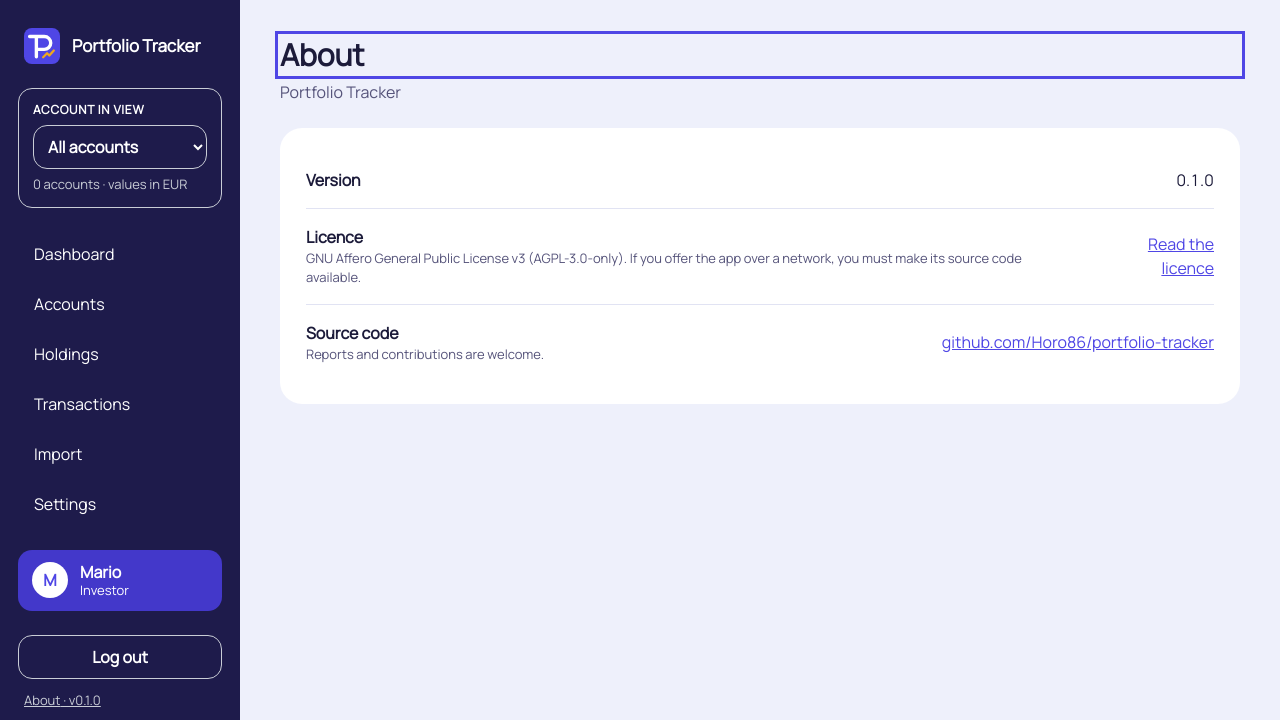
Test case: app shell › logs out with the CSRF header and returns to the login
expect the heading "About" is shown: met, box [280,34,364,75]
Click the button "Log out": [120, 657] box [18,635,222,679]
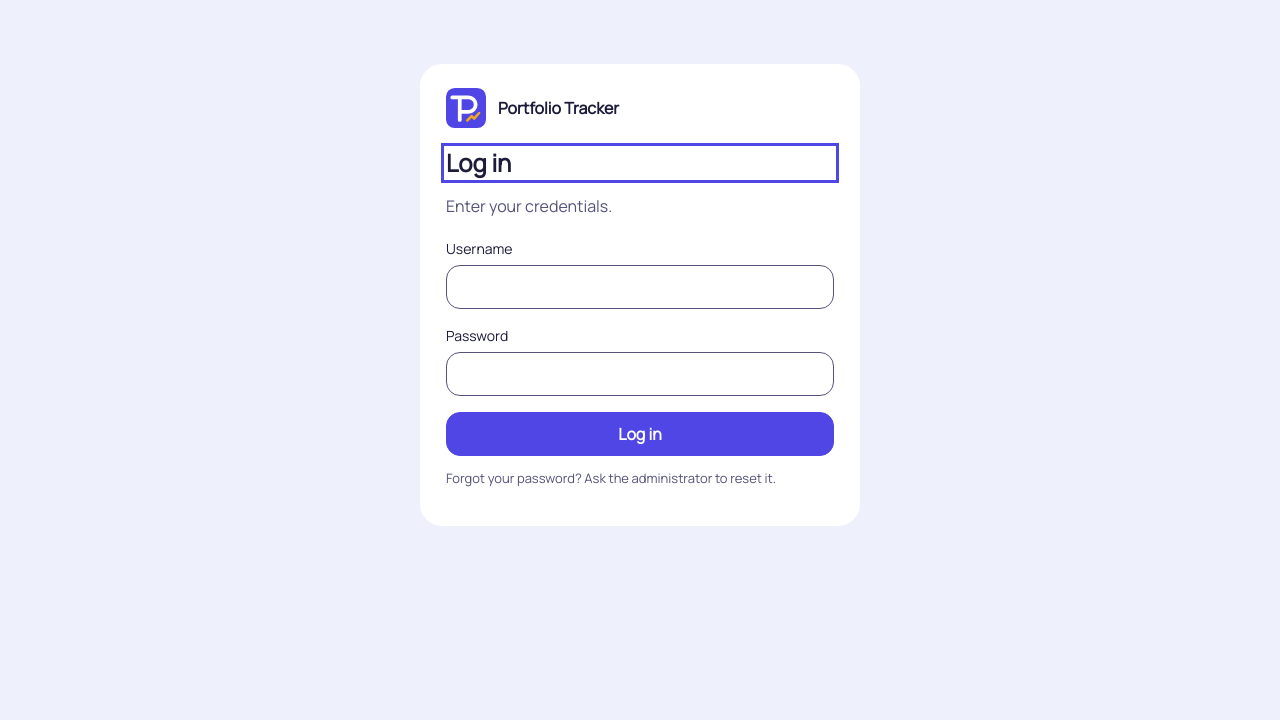
expect the heading "Log in" is shown: met, box [446,146,511,179]
